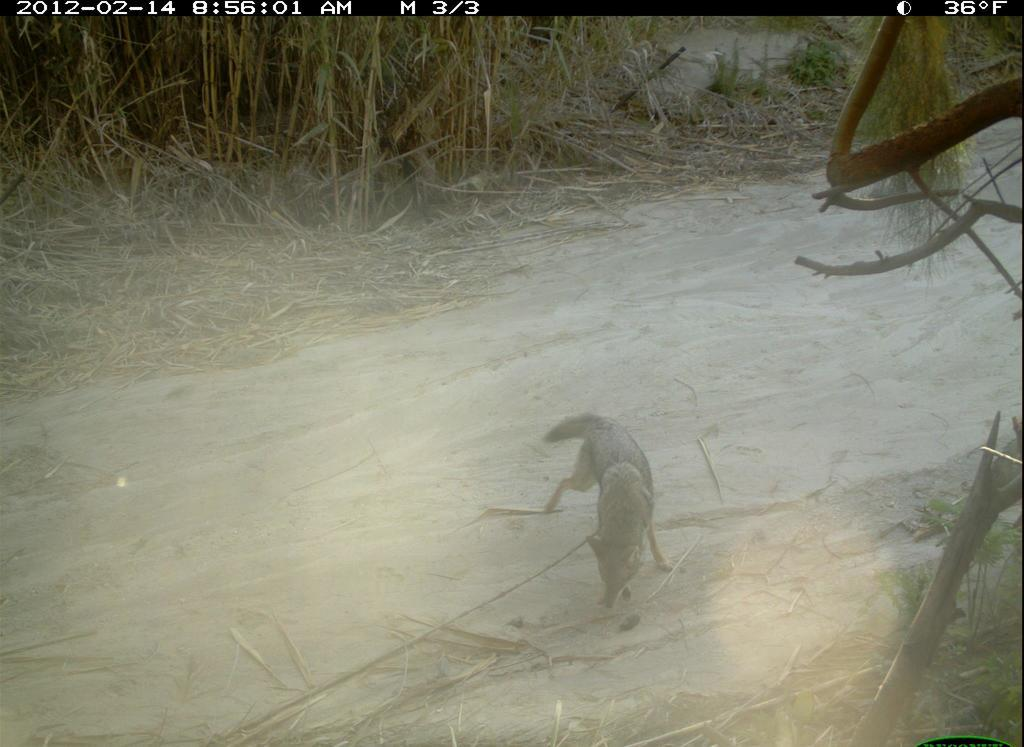coyote: (530, 408, 690, 641)
